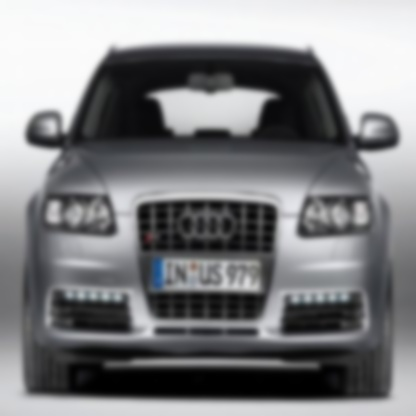Vehicle: (20, 33, 400, 402)
